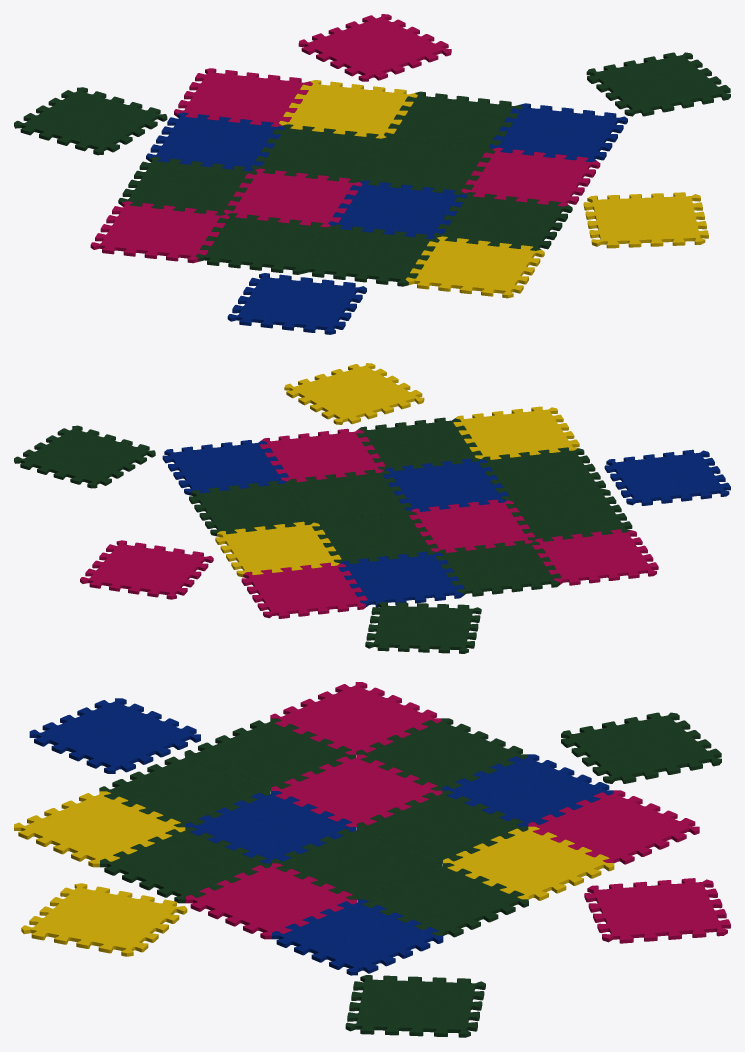
Rendered from Carpet puzzle.fbx.
The picture shows the model from 3 angles, top to bottom: view 1: azimuth 30°, elevation 25°; view 2: azimuth 150°, elevation 25°; view 3: azimuth 270°, elevation 25°; orthographic projection. The views are drawn at different scales.
Visible parts, largest first — view 1: puzzle; view 2: puzzle; view 3: puzzle.
Boxes of the visible parts, <box> form: puzzle: <box>14,14,730,334</box>; puzzle: <box>14,363,730,653</box>; puzzle: <box>14,682,730,1037</box>.
Size of the model in its own units: 209 by 1.98 by 180.
